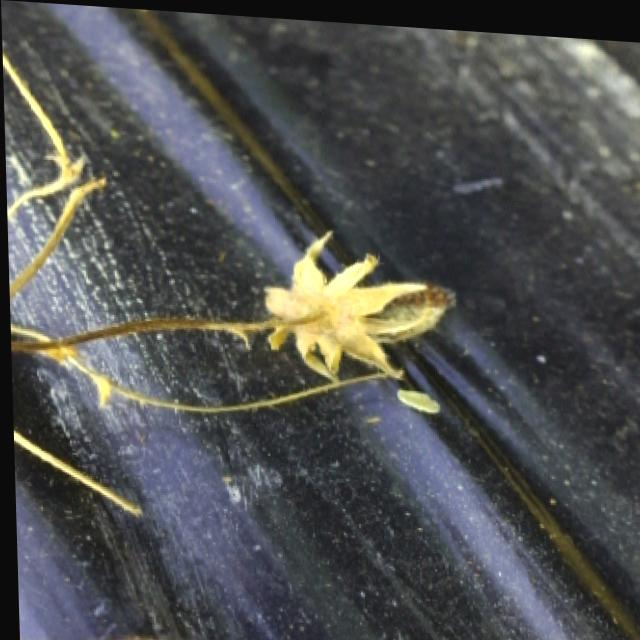Gray Mold: (260, 222, 456, 378)
